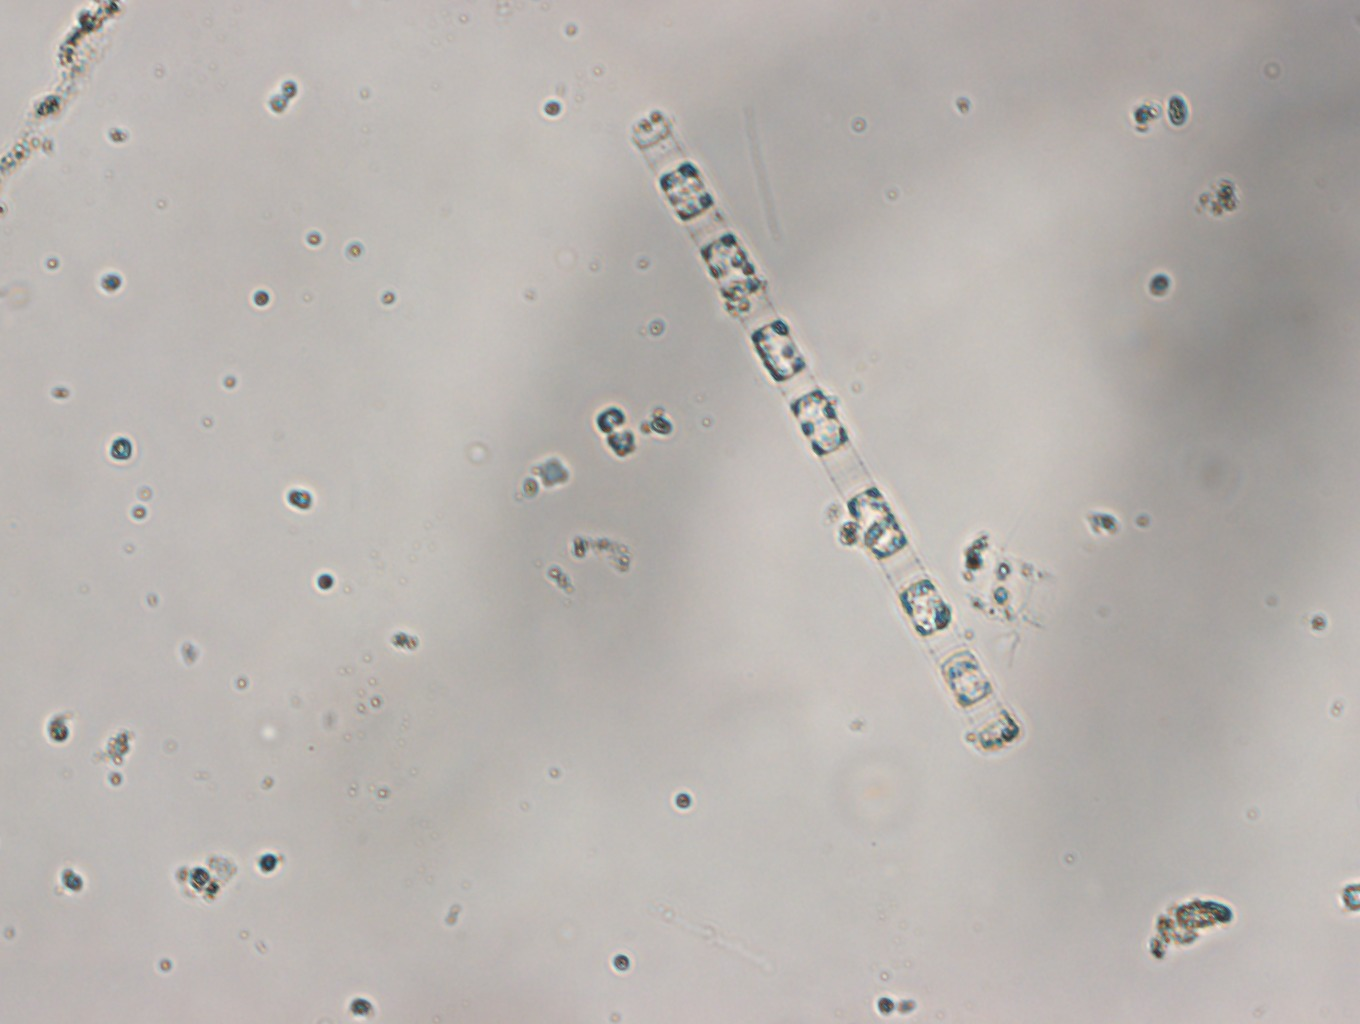skeletonema: (628, 101, 1023, 762)
